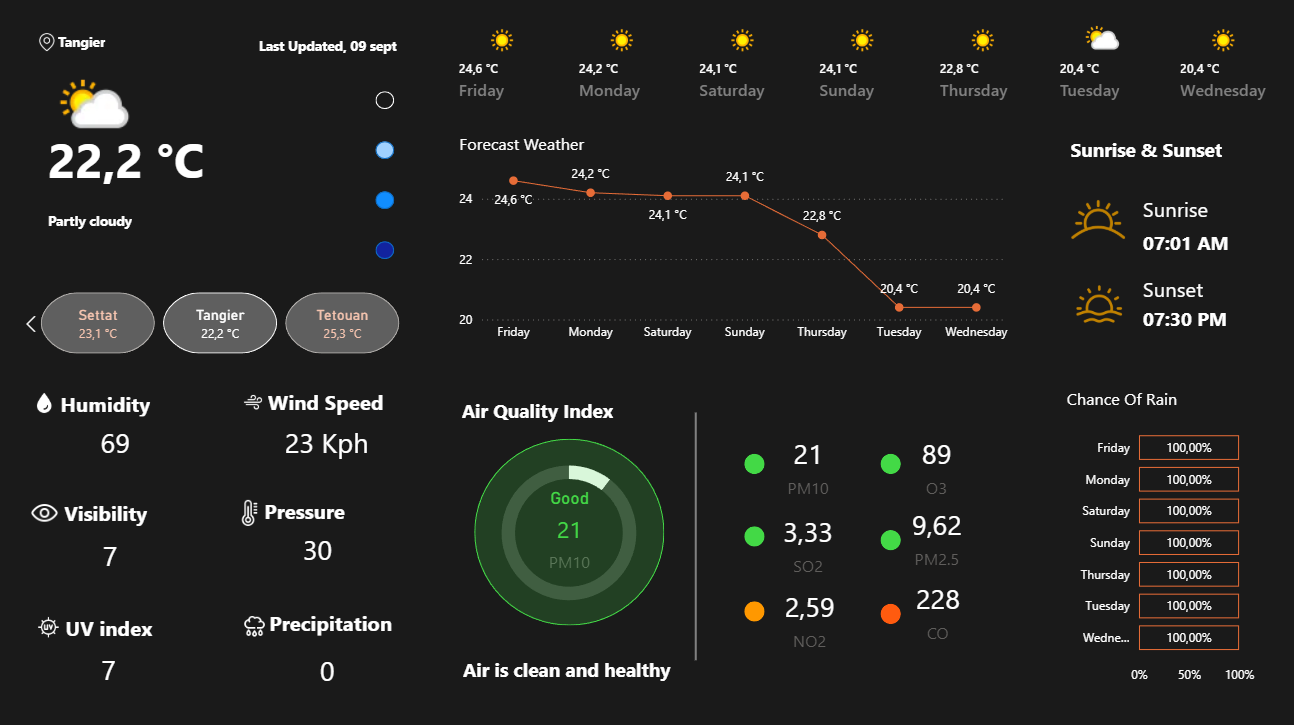

Layout of this report page (visuals, bound fields, positions):
{"tool":"powerbi","page":{"name":"Page 1","canvas":[1280,720],"ordinal":0},"visuals":[{"type":"advancedSlicerVisual","fields":{"Values":["Locations.location.name"]},"box":[17.7,287.7,402.3,70.8],"z":0},{"type":"shape","box":[49.2,110,198.5,100],"z":1000},{"type":"shape","box":[49.2,207.7,142.3,27.7],"z":2000},{"type":"shape","box":[59.2,32.3,113.8,26.9],"z":3000},{"type":"shape","box":[191.5,35.4,200,26.9],"z":4000},{"type":"image","box":[33.8,29.2,27.7,33.1],"z":5000},{"type":"cardVisual","fields":{"Data":["Min(Current.current.condition.icon)"]},"box":[23.1,54.6,129.2,96.9],"z":6000},{"type":"image","box":[21.1,487.8,50,40],"z":7000},{"type":"shape","box":[61.5,386.9,95.4,27.7],"z":8000},{"type":"image","box":[226.7,491.1,40,35.6],"z":9000},{"type":"image","box":[232.3,385.4,36.2,29.2],"z":10000},{"type":"image","box":[33.1,604.6,32.3,31.5],"z":11000},{"type":"image","box":[24.6,385.4,42.3,30.8],"z":12000},{"type":"image","box":[227.7,602.3,46.9,34.6],"z":13000},{"type":"shape","box":[264.6,385.4,115.4,28.5],"z":14000},{"type":"shape","box":[64.4,493.3,92.2,28.9],"z":15000},{"type":"shape","box":[261.1,491.1,86.7,28.9],"z":16000},{"type":"shape","box":[266.7,602.2,124.4,26.7],"z":17000},{"type":"shape","box":[66.2,606.9,100,26.9],"z":18000},{"type":"card","fields":{"Values":["Sum(Current.current.humidity)"]},"box":[81.5,420,68.5,40.8],"z":19000},{"type":"card","fields":{"Values":["Sum(Current.current.precip_in)"]},"box":[289.2,643.8,67.7,40.8],"z":20000},{"type":"card","fields":{"Values":["Sum(Current.current.uv)"]},"box":[75.4,643.1,67.7,41.5],"z":21000},{"type":"card","fields":{"Values":["_Measures.Wind_Speed"]},"box":[253.8,420,137.7,40.8],"z":22000},{"type":"card","fields":{"Values":["Sum(Current.current.pressure_in)"]},"box":[280,525.5,68.2,40.9],"z":23000},{"type":"card","fields":{"Values":["Sum(Current.current.vis_km)"]},"box":[76.4,531.8,68.2,40.9],"z":24000},{"type":"advancedSlicerVisual","fields":{"Values":["Forcast_Day.Day_Name"]},"box":[433.8,18.8,828.8,91.2],"z":25000},{"type":"lineChart","title":"Forecast Weather","fields":{"Y":["Sum(Forcast_Day.forecast.forecastday.day.avgtemp_c)"],"Category":["Forcast_Day.Day_Name"]},"box":[447.5,135,555,213.8],"z":26000},{"type":"shape","box":[1052.5,120,185,63.8],"z":27000},{"type":"shape","box":[1123.3,295.6,92.2,43.3],"z":28000},{"type":"shape","box":[1123.3,216.7,100,50],"z":29000},{"type":"shape","box":[1123.3,273.3,115.6,28.9],"z":30000},{"type":"shape","box":[1123.3,195.6,115.6,28.9],"z":31000},{"type":"image","box":[1036.7,180,86.7,80],"z":32000},{"type":"image","box":[1044.4,275.6,73.3,54.4],"z":33000},{"type":"hundredPercentStackedBarChart","title":"Chance Of Rain ","fields":{"Y":["Sum(Forcast_Day.forecast.forecastday.day.daily_chance_of_rain)","Sum(Forcast_Day.Left_vlaue_Rain)"],"Category":["Forcast_Day.Day_Name"]},"box":[1044.3,385.7,194.3,300],"z":34000},{"type":"shape","box":[455.7,375.7,184.3,64.3],"z":35000},{"type":"card","fields":{"Values":["Sum(Current.current.air_quality.pm2_5)"]},"box":[858.7,488,126,87.3],"z":36000},{"type":"card","fields":{"Values":["Sum(Current.current.air_quality.co)"]},"box":[852.7,560.7,140,87.3],"z":37000},{"type":"card","fields":{"Values":["Sum(Current.current.air_quality.pm10)"]},"box":[732.7,418.7,126,87.3],"z":38000},{"type":"card","fields":{"Values":["Sum(Current.current.air_quality.so2)"]},"box":[703.3,494,184.7,87.3],"z":39000},{"type":"card","fields":{"Values":["Sum(Current.current.air_quality.no2)"]},"box":[723.3,568.7,146,87.3],"z":40000},{"type":"card","fields":{"Values":["Sum(Current.current.air_quality.o3)"]},"box":[858.7,418,125.3,87.3],"z":41000},{"type":"shape","box":[732.7,450.7,20,20],"z":42000},{"type":"shape","box":[866,598,20,20],"z":43000},{"type":"shape","box":[732.7,522,20,20],"z":44000},{"type":"shape","box":[866,525.3,20,20],"z":45000},{"type":"shape","box":[732.7,594.7,20,20],"z":46000},{"type":"shape","box":[866,450.7,20,20],"z":47000},{"type":"shape","box":[578,410,214,243.3],"z":48000},{"type":"card","fields":{"Values":["Sum(Current.current.air_quality.pm10)"]},"box":[515,483.3,91.7,86.7],"z":49000},{"type":"donutChart","fields":{"Y":["Sum(Current.current.air_quality.pm10)","_Measures.Left_value_PM10"]},"box":[443.3,440.7,235.3,175.3],"z":50000},{"type":"shape","box":[467.5,435.8,186.7,183.3],"z":51000},{"type":"shape","box":[455.8,629.2,244.2,64.2],"z":52000},{"type":"shape","box":[370.8,143.3,18.3,17.5],"z":52001},{"type":"shape","box":[370.8,94.2,18.3,17.5],"z":52002},{"type":"shape","box":[370.8,192.5,18.3,17.5],"z":52003},{"type":"shape","box":[370.8,241.7,18.3,17.5],"z":52004}]}

Visuals, with their boxes in screenshot pixels (x1, y1, x2, y2), scaled from the page's 1280x720 canvas onto the 1294x725 screenshot:
advancedSlicerVisual - Locations.location.name: {"left": 18, "top": 290, "right": 425, "bottom": 361}
shape: {"left": 50, "top": 111, "right": 250, "bottom": 211}
shape: {"left": 50, "top": 209, "right": 194, "bottom": 237}
shape: {"left": 60, "top": 33, "right": 175, "bottom": 60}
shape: {"left": 194, "top": 36, "right": 396, "bottom": 63}
image: {"left": 34, "top": 29, "right": 62, "bottom": 63}
cardVisual - Min(Current.current.condition.icon): {"left": 23, "top": 55, "right": 154, "bottom": 153}
image: {"left": 21, "top": 491, "right": 72, "bottom": 531}
shape: {"left": 62, "top": 390, "right": 159, "bottom": 417}
image: {"left": 229, "top": 495, "right": 270, "bottom": 530}
image: {"left": 235, "top": 388, "right": 271, "bottom": 417}
image: {"left": 33, "top": 609, "right": 66, "bottom": 641}
image: {"left": 25, "top": 388, "right": 68, "bottom": 419}
image: {"left": 230, "top": 606, "right": 278, "bottom": 641}
shape: {"left": 267, "top": 388, "right": 384, "bottom": 417}
shape: {"left": 65, "top": 497, "right": 158, "bottom": 526}
shape: {"left": 264, "top": 495, "right": 352, "bottom": 524}
shape: {"left": 270, "top": 606, "right": 395, "bottom": 633}
shape: {"left": 67, "top": 611, "right": 168, "bottom": 638}
card - Sum(Current.current.humidity): {"left": 82, "top": 423, "right": 152, "bottom": 464}
card - Sum(Current.current.precip_in): {"left": 292, "top": 648, "right": 361, "bottom": 689}
card - Sum(Current.current.uv): {"left": 76, "top": 648, "right": 145, "bottom": 689}
card - _Measures.Wind_Speed: {"left": 257, "top": 423, "right": 396, "bottom": 464}
card - Sum(Current.current.pressure_in): {"left": 283, "top": 529, "right": 352, "bottom": 570}
card - Sum(Current.current.vis_km): {"left": 77, "top": 535, "right": 146, "bottom": 577}
advancedSlicerVisual - Forcast_Day.Day_Name: {"left": 439, "top": 19, "right": 1276, "bottom": 111}
"Forecast Weather" lineChart: {"left": 452, "top": 136, "right": 1013, "bottom": 351}
shape: {"left": 1064, "top": 121, "right": 1251, "bottom": 185}
shape: {"left": 1136, "top": 298, "right": 1229, "bottom": 341}
shape: {"left": 1136, "top": 218, "right": 1237, "bottom": 269}
shape: {"left": 1136, "top": 275, "right": 1252, "bottom": 304}
shape: {"left": 1136, "top": 197, "right": 1252, "bottom": 226}
image: {"left": 1048, "top": 181, "right": 1136, "bottom": 262}
image: {"left": 1056, "top": 278, "right": 1130, "bottom": 332}
"Chance Of Rain " hundredPercentStackedBarChart: {"left": 1056, "top": 388, "right": 1252, "bottom": 690}
shape: {"left": 461, "top": 378, "right": 647, "bottom": 443}
card - Sum(Current.current.air_quality.pm2_5): {"left": 868, "top": 491, "right": 995, "bottom": 579}
card - Sum(Current.current.air_quality.co): {"left": 862, "top": 565, "right": 1004, "bottom": 652}
card - Sum(Current.current.air_quality.pm10): {"left": 741, "top": 422, "right": 868, "bottom": 510}
card - Sum(Current.current.air_quality.so2): {"left": 711, "top": 497, "right": 898, "bottom": 585}
card - Sum(Current.current.air_quality.no2): {"left": 731, "top": 573, "right": 879, "bottom": 661}
card - Sum(Current.current.air_quality.o3): {"left": 868, "top": 421, "right": 995, "bottom": 509}
shape: {"left": 741, "top": 454, "right": 761, "bottom": 474}
shape: {"left": 875, "top": 602, "right": 896, "bottom": 622}
shape: {"left": 741, "top": 526, "right": 761, "bottom": 546}
shape: {"left": 875, "top": 529, "right": 896, "bottom": 549}
shape: {"left": 741, "top": 599, "right": 761, "bottom": 619}
shape: {"left": 875, "top": 454, "right": 896, "bottom": 474}
shape: {"left": 584, "top": 413, "right": 801, "bottom": 658}
card - Sum(Current.current.air_quality.pm10): {"left": 521, "top": 487, "right": 613, "bottom": 574}
donutChart - Sum(Current.current.air_quality.pm10) x _Measures.Left_value_PM10: {"left": 448, "top": 444, "right": 686, "bottom": 620}
shape: {"left": 473, "top": 439, "right": 661, "bottom": 623}
shape: {"left": 461, "top": 634, "right": 708, "bottom": 698}
shape: {"left": 375, "top": 144, "right": 393, "bottom": 162}
shape: {"left": 375, "top": 95, "right": 393, "bottom": 112}
shape: {"left": 375, "top": 194, "right": 393, "bottom": 211}
shape: {"left": 375, "top": 243, "right": 393, "bottom": 261}
